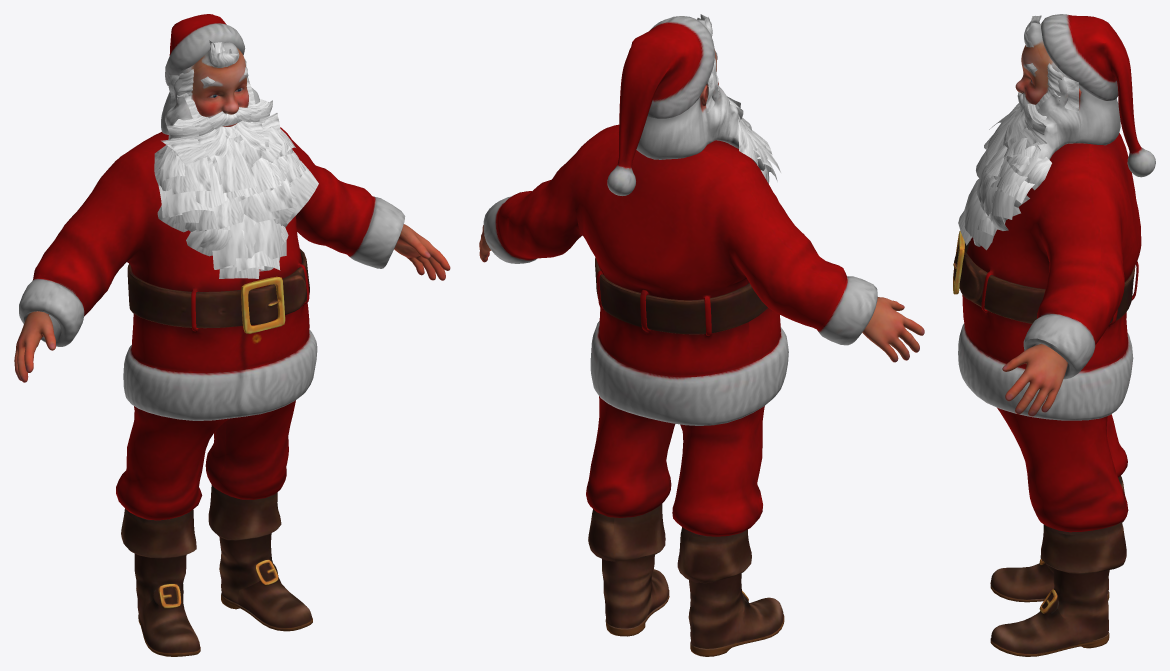
Rendered from Santa.glb.
3 renders of one model, left to right at view 1: azimuth 30°, elevation 25°; view 2: azimuth 150°, elevation 25°; view 3: azimuth 270°, elevation 25°, orthographic. The views are drawn at different scales.
Visible parts, largest first — view 1: Santa-main-model; view 2: Santa-main-model; view 3: Santa-main-model.
Boxes of the visible parts, x1=… form: Santa-main-model: x1=14, y1=14, x2=450, y2=656; Santa-main-model: x1=479, y1=14, x2=924, y2=656; Santa-main-model: x1=953, y1=14, x2=1155, y2=656.
Size of the model in its own units: 8.97 by 12.04 by 3.67.
Materials: 1 (1 with a texture image).
